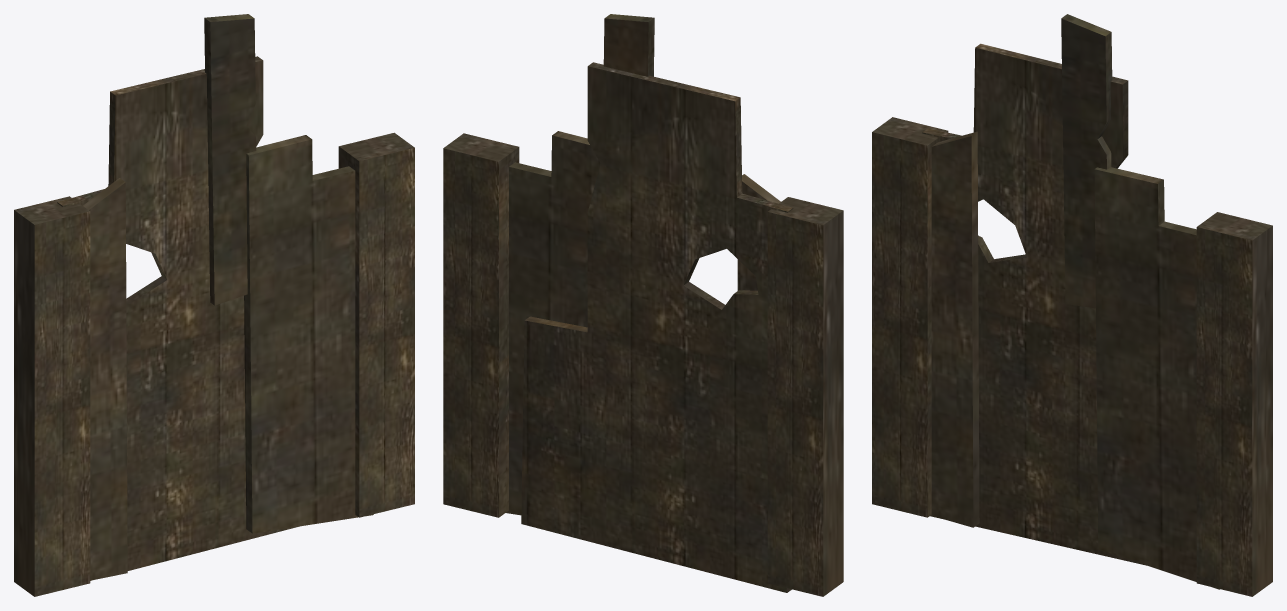
3 views of the same model, side by side, from view 1: azimuth 30°, elevation 25°; view 2: azimuth 150°, elevation 25°; view 3: azimuth 330°, elevation 25° (orthographic).
Visible parts, largest first — view 1: woodwall3; view 2: woodwall3; view 3: woodwall3.
Boxes of the visible parts, x1,y1,x2,y2 form: woodwall3: (14,14,414,596); woodwall3: (443,14,843,596); woodwall3: (872,14,1272,596).
Bounding box in the file's own units: 2.24 × 3 × 0.209.
Materials: 1 (1 with a texture image).
